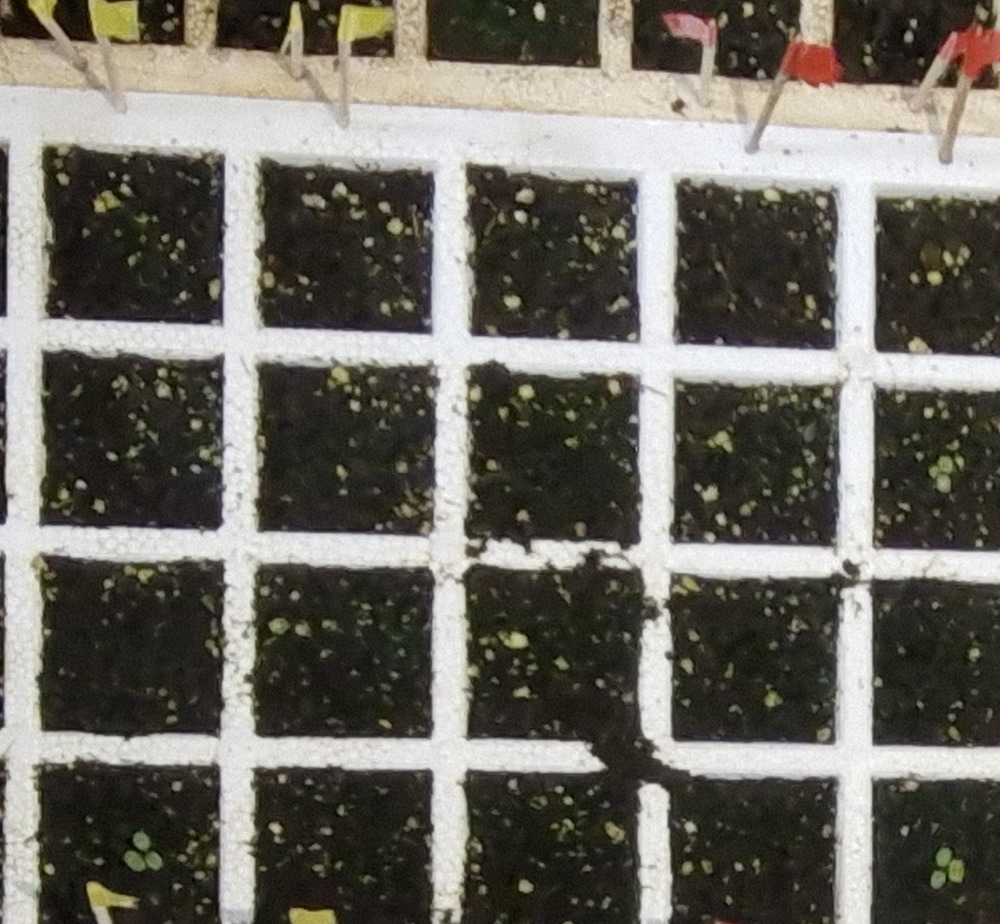Folha: (123, 852, 147, 872), (950, 859, 965, 883), (935, 848, 952, 868), (931, 871, 946, 890), (147, 851, 162, 870), (135, 831, 149, 850), (938, 473, 951, 493), (939, 456, 952, 474), (930, 466, 941, 478)
Germinacao: (124, 830, 164, 871), (932, 847, 964, 889), (928, 456, 953, 494)
